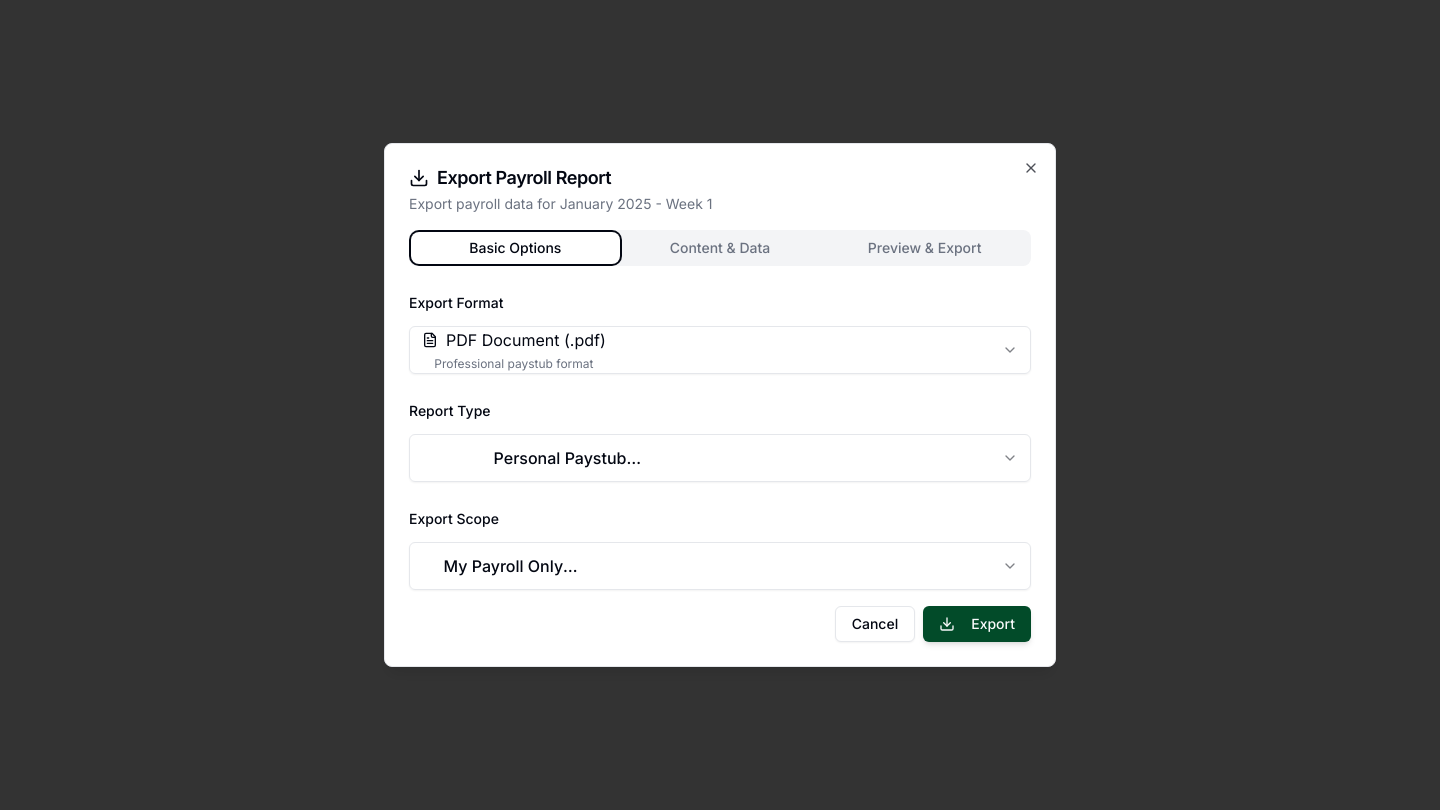
Scenario: PayrollExportDialog › allows adding notes
Note: Go to Content & Data tab
Click the tab "Content & Data" at point(720, 248), box 618,234 -> 822,262
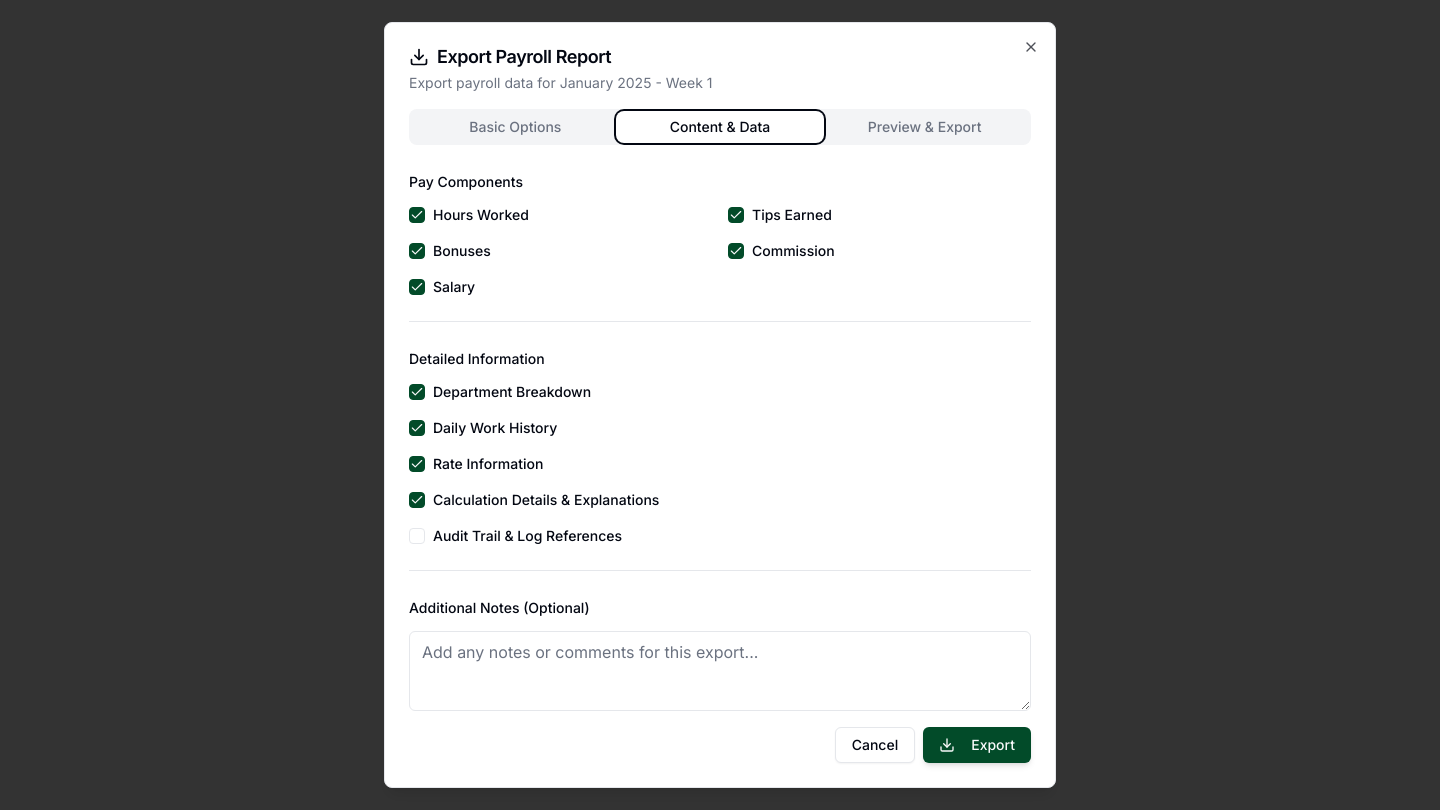
Type "Test export notes" into the text box with placeholder "Add any notes or comments for this export..." at point(720, 671), box 409,631 -> 1031,711
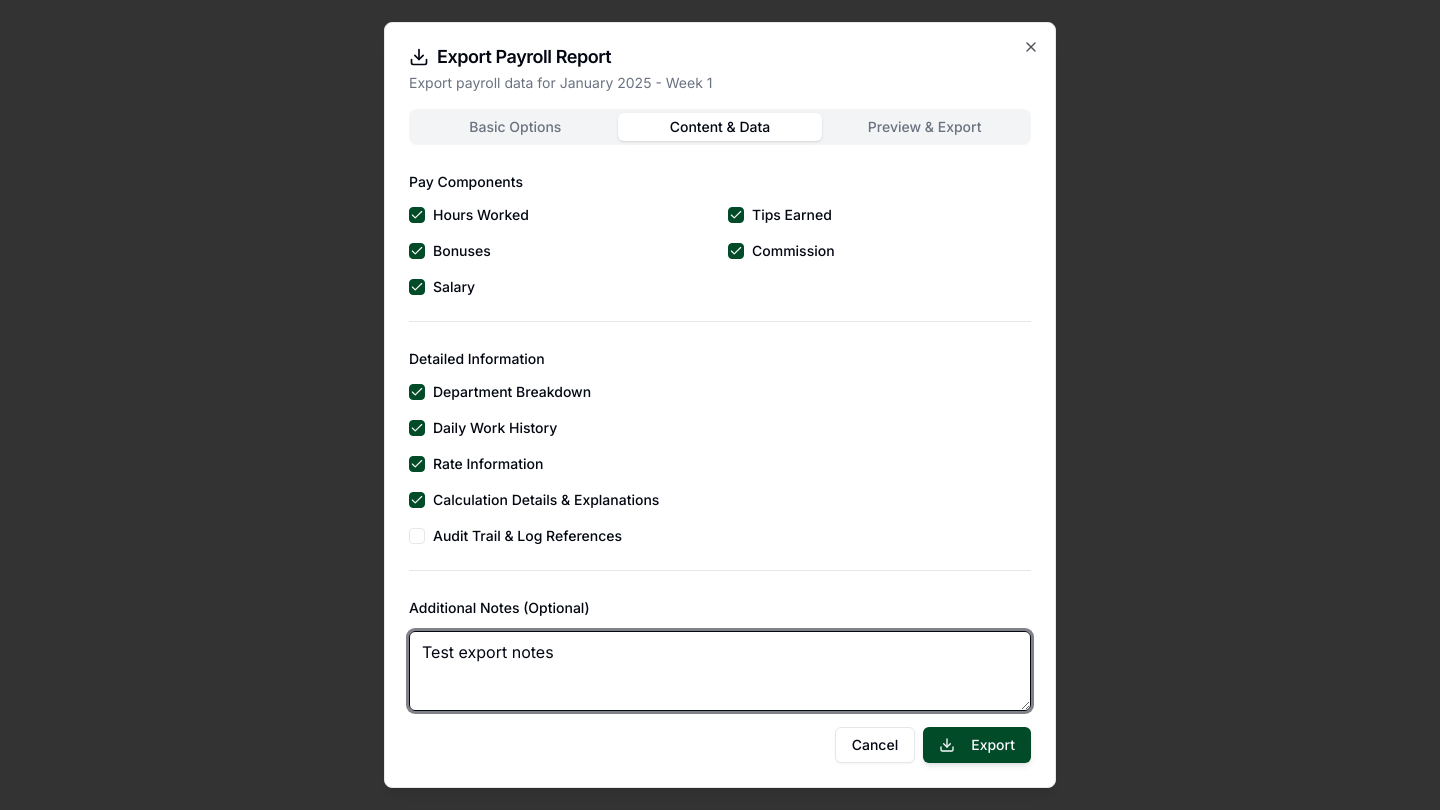
Note: Go to preview tab and check notes are shown
Click the tab "Preview & Export" at point(925, 127), box 822,113 -> 1027,141
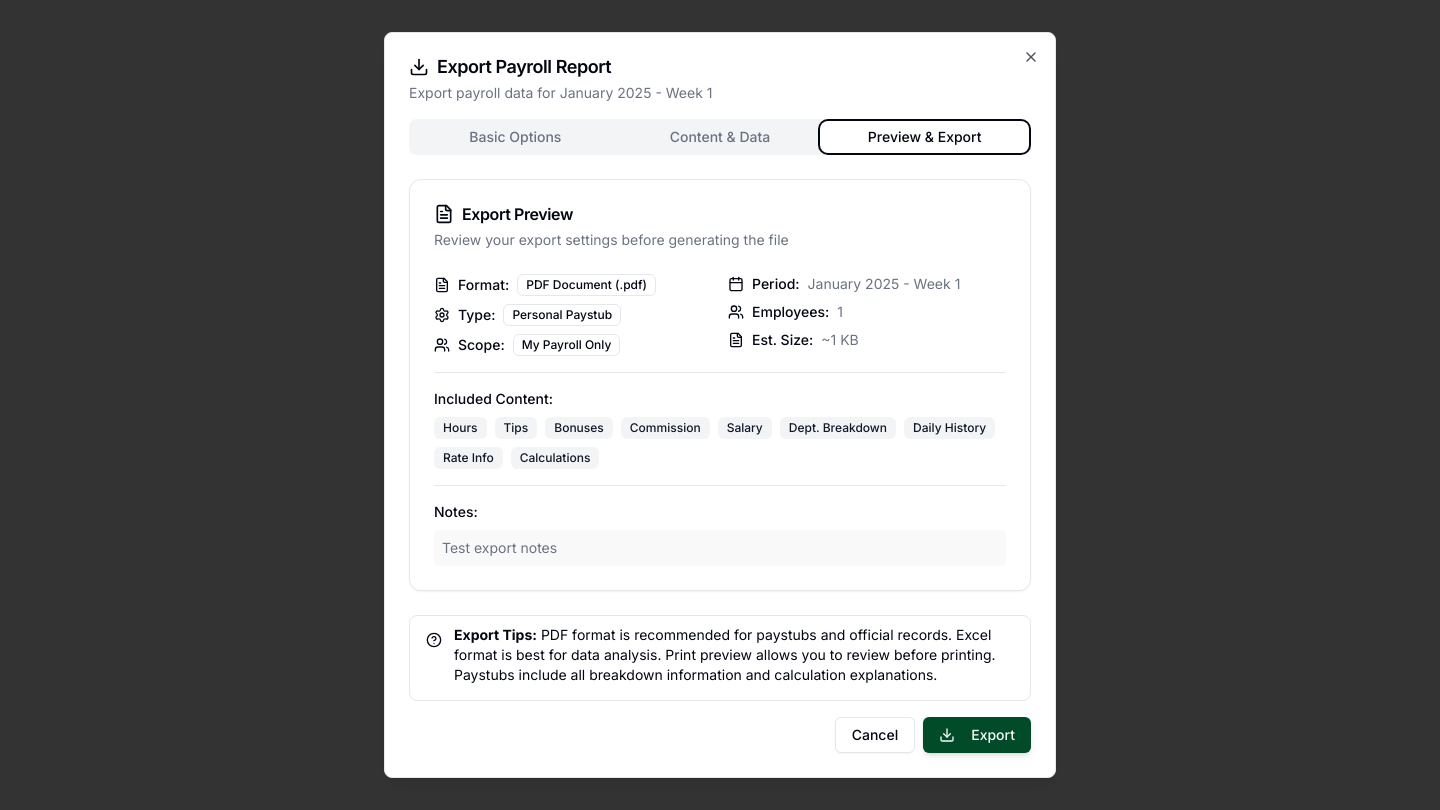
Expected: the text "Test export notes" is shown, 434,530 -> 1006,566
